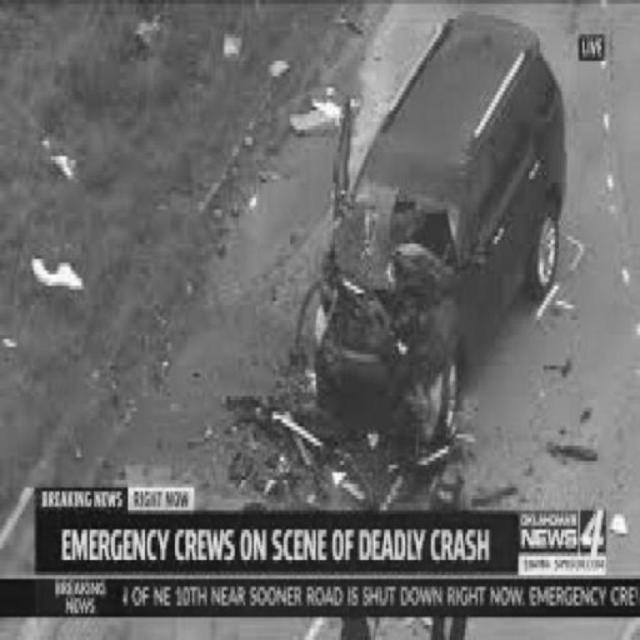vehicle: (311, 13, 571, 435)
